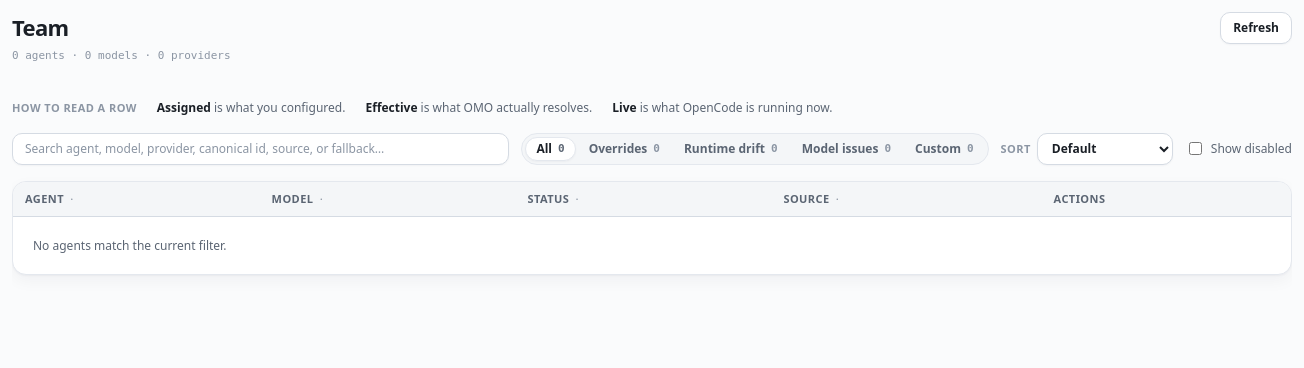
Test: agents assignment IA — ownership › disabled Observer is hidden by default and shown only via Show disabled
Expected: the text "observer" is not shown
Reveal via the Show disabled gate.
What coordinates should you click on to do the following:
click the checkbox labelled "Show disabled"
I would click on:
 (1195, 149)
Its box is [1189,142,1202,155].
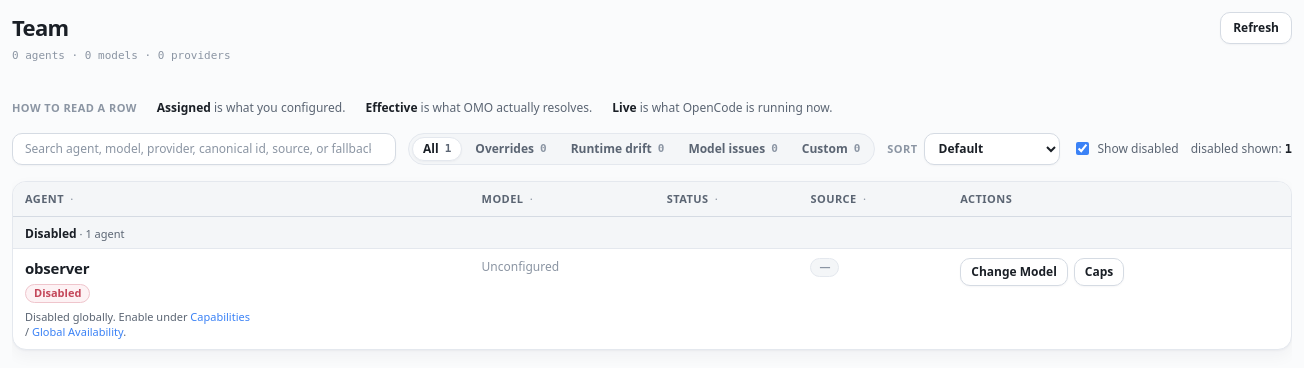
Expected: the 2nd text "Disabled" is shown, [25,284,90,303]
Expected: the text "Unconfigured" is shown, [482,258,559,275]
Expected: the button "Change Model" is shown, [960,258,1068,286]
